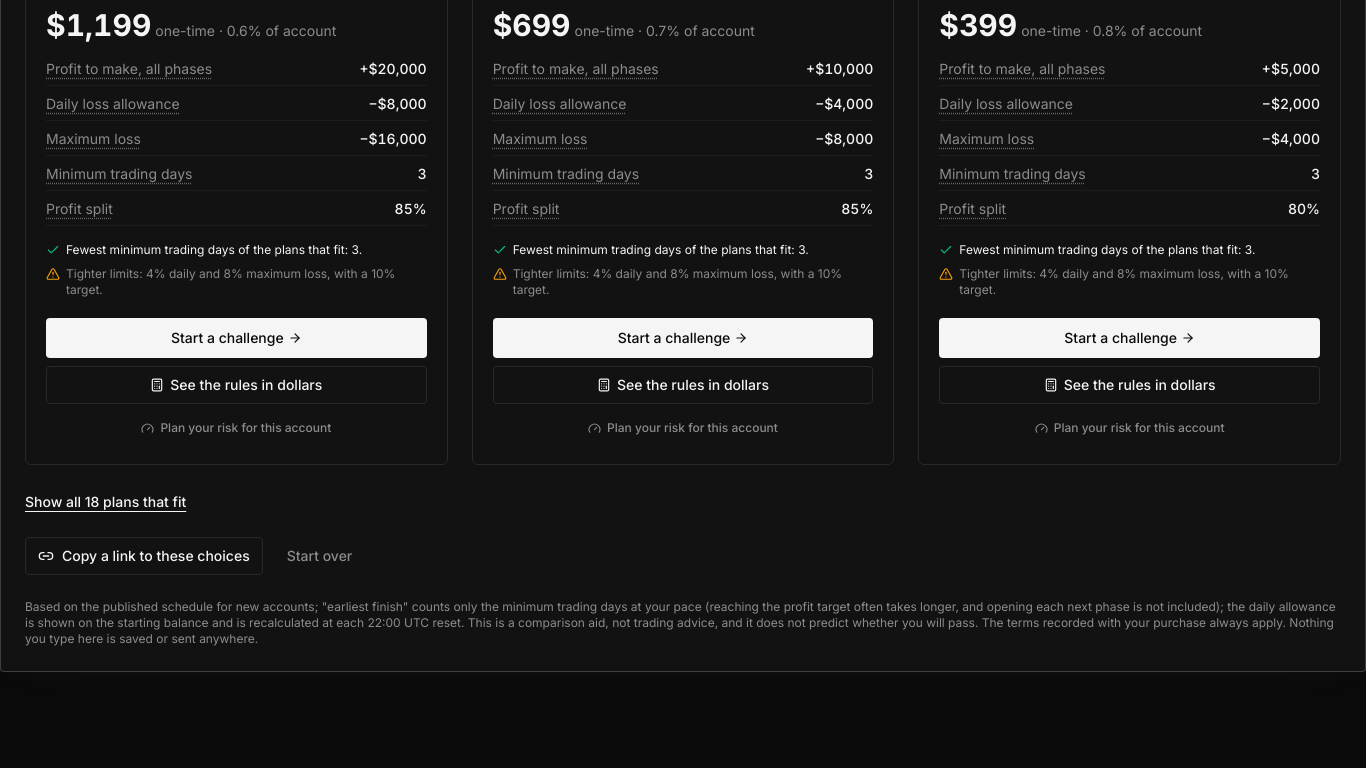
challenge finder widget › copies a link to the choices
(page scrolled)
Click the button "Copy a link to these choices".
click(144, 556)  # box left=25, top=537, right=263, bottom=575
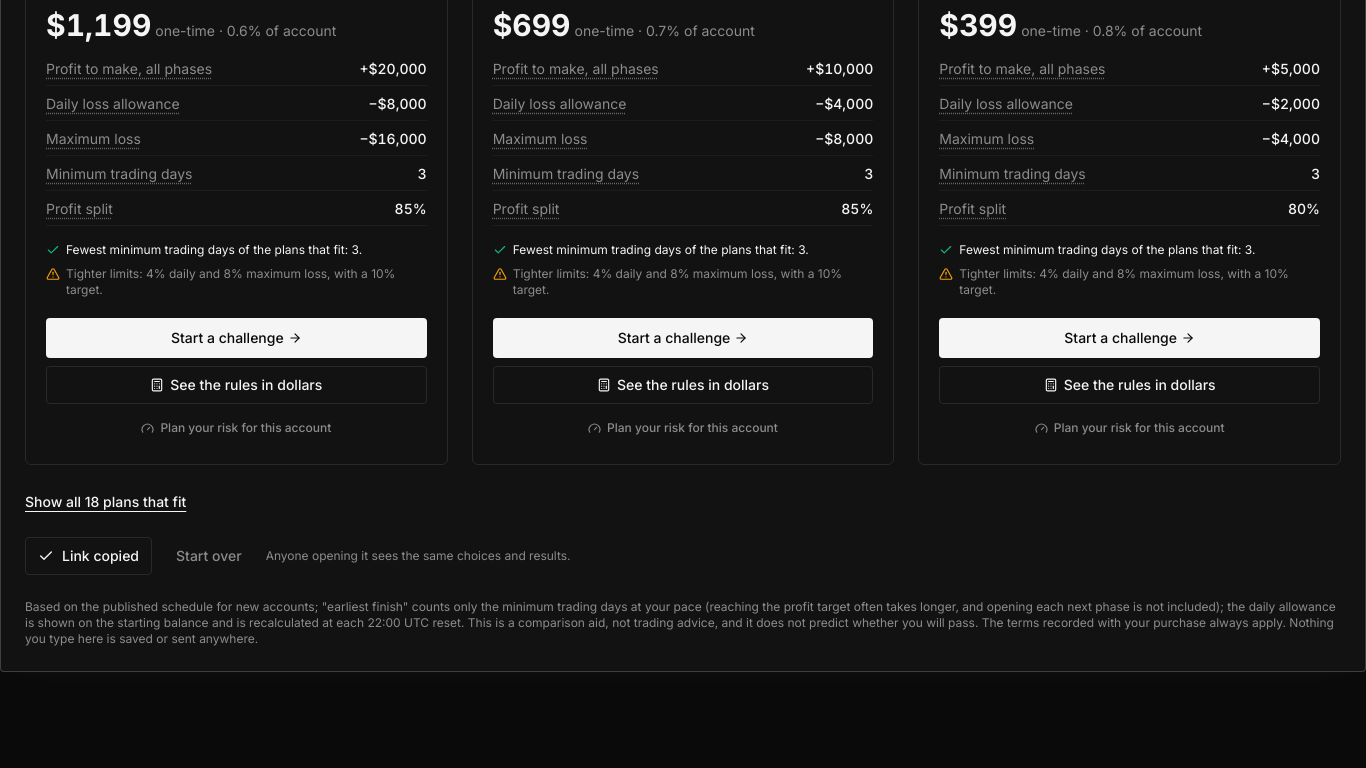
Now the button "Link copied" is shown, box left=25, top=537, right=152, bottom=575
